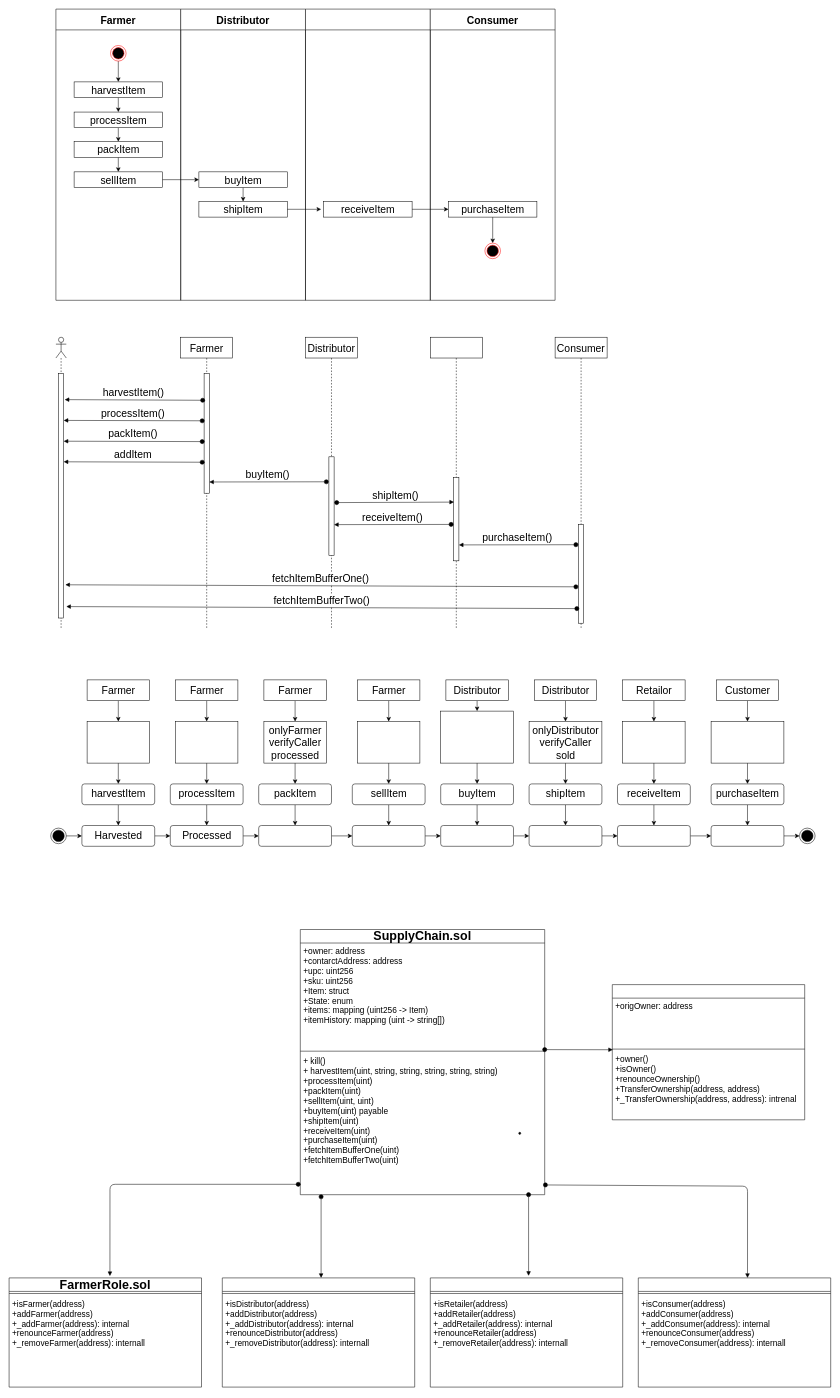
Some shapes in this 840 by 1398 pixel diagram are drawn without their labels. Each missing label, with the box of its shape:
ConsumerRole.sol: (638, 1277, 831, 1387)
DistributorRole.sol: (222, 1277, 415, 1387)
ForSale: (352, 825, 425, 846)
onlyCustomer received: (711, 721, 784, 763)
onlyDistributor forSale paidEnough checkValue: (440, 711, 514, 763)
onlyFarmer: (87, 721, 150, 763)
onlyFarmer verifyCaller harvested: (175, 721, 238, 763)
onlyFarmer verifyCaller packed: (357, 721, 420, 763)
onlyRetailor shipped: (622, 721, 685, 763)
Ownable.sol: (612, 984, 805, 1120)
Packed: (258, 825, 332, 846)
Purchased: (711, 825, 784, 846)
Received: (617, 825, 690, 846)
Retailer: (430, 337, 482, 628)
RetailerRole.sol: (430, 1277, 623, 1387)
Retialer: (305, 9, 430, 300)
Shipped: (529, 825, 602, 846)
Sold: (440, 825, 514, 846)
